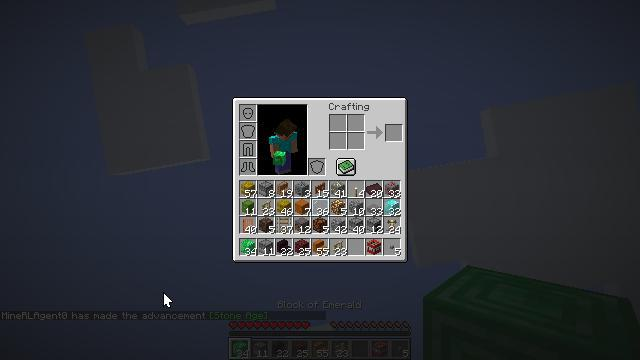cursor: (163, 292, 173, 308)
